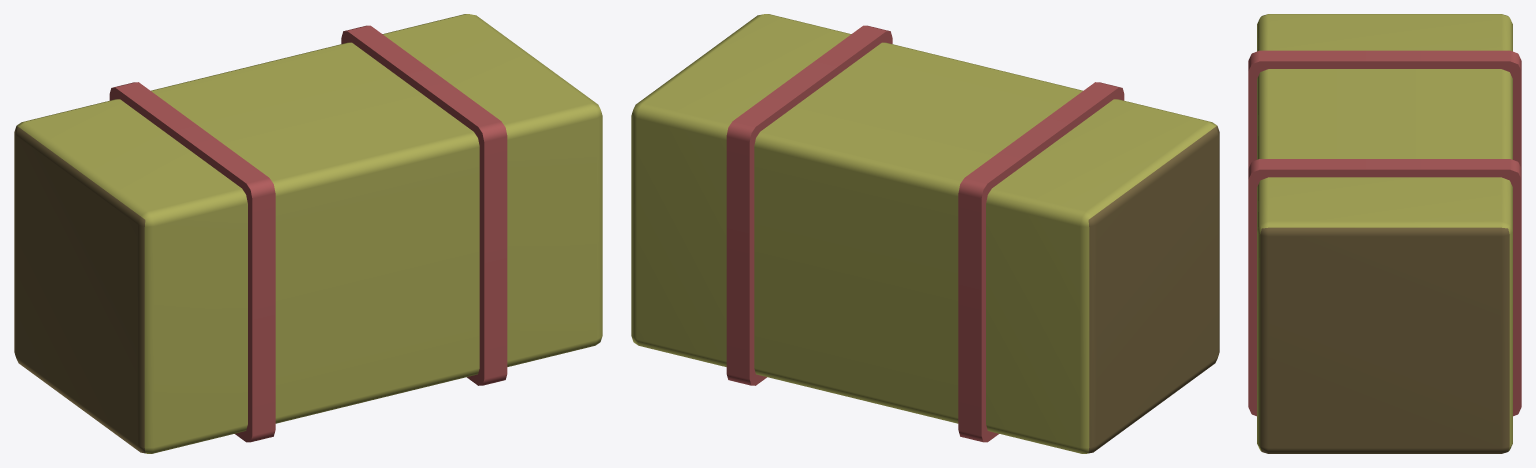
The model's file is MOD_HayBale_beveled.fbx.
3 renders of one model, left to right at view 1: azimuth 30°, elevation 25°; view 2: azimuth 150°, elevation 25°; view 3: azimuth 270°, elevation 25°, orthographic. The views are drawn at different scales.
Parts seen in each view (by area): view 1: HayBaleGreybox_v2; view 2: HayBaleGreybox_v2; view 3: HayBaleGreybox_v2.
Part boxes in pixels (x1,y1,x2,y2): HayBaleGreybox_v2: [14, 14, 602, 453]; HayBaleGreybox_v2: [631, 14, 1219, 453]; HayBaleGreybox_v2: [1248, 14, 1521, 453].
Bounding box in the file's own units: 240 × 128 × 128.
